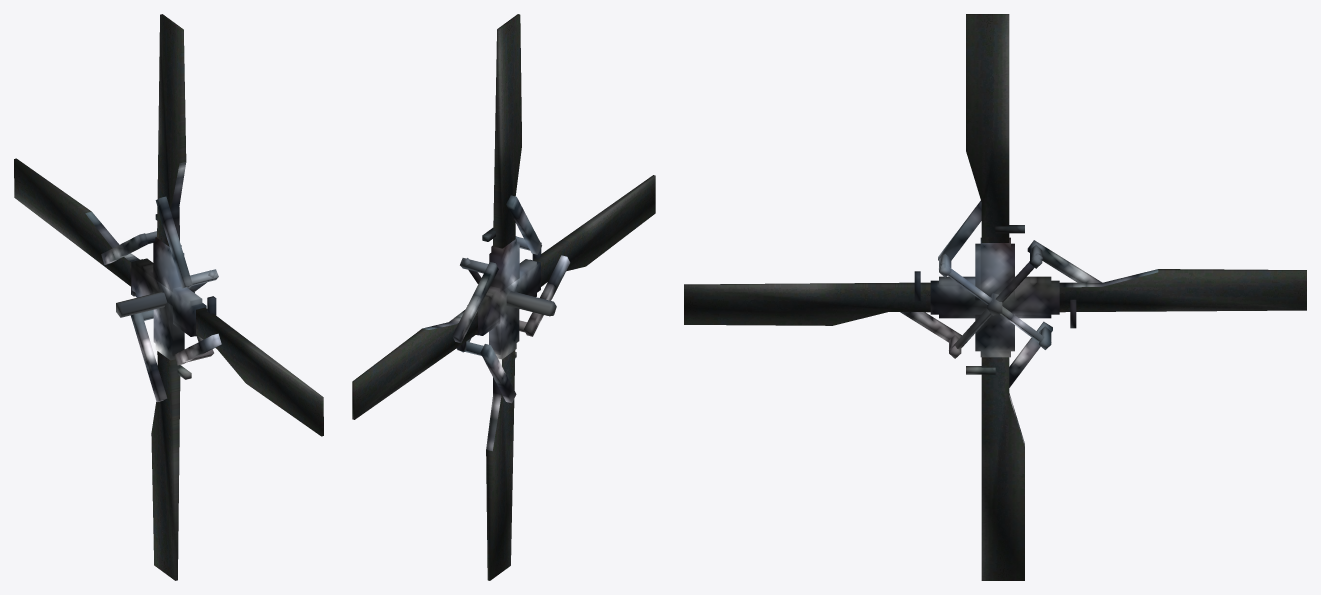
File: back_rotor.obj
3 views of the same model, side by side, from view 1: azimuth 30°, elevation 25°; view 2: azimuth 150°, elevation 25°; view 3: azimuth 270°, elevation 25° (orthographic). The views are drawn at different scales.
Visible parts, largest first — view 1: rear_rotor; view 2: rear_rotor; view 3: rear_rotor.
Boxes of the visible parts, x1,y1,x2,y2 form: rear_rotor: (14,14,323,580); rear_rotor: (352,14,655,580); rear_rotor: (684,14,1306,580).
Size of the model in its own units: 0.3685 by 2.71 by 2.71.
Materials: 1 (1 with a texture image).
